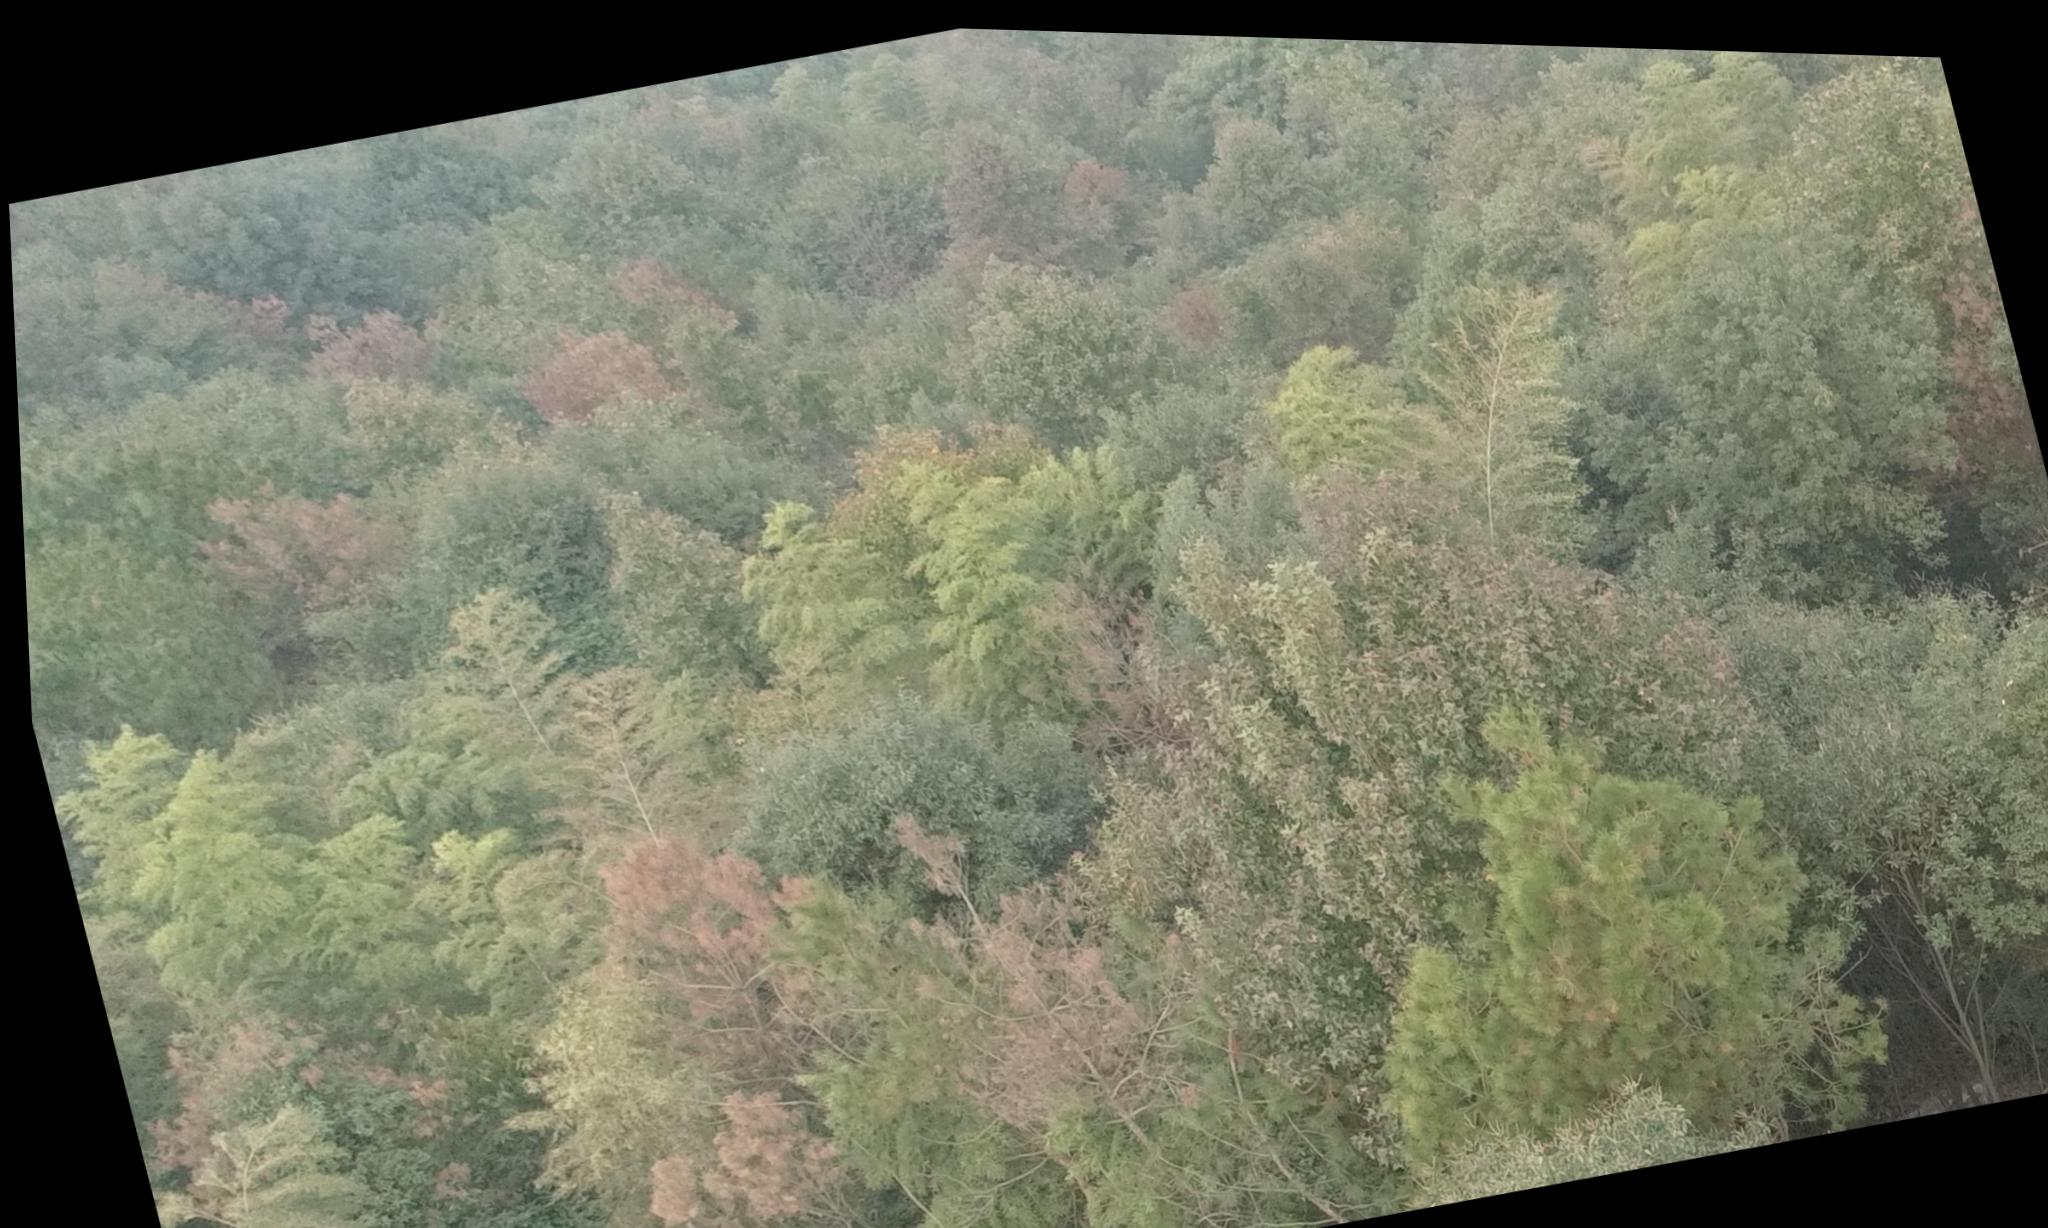heavy: (927, 839, 1196, 1158), (569, 797, 838, 1054), (617, 1054, 865, 1228)
light: (1466, 773, 1816, 1111)
